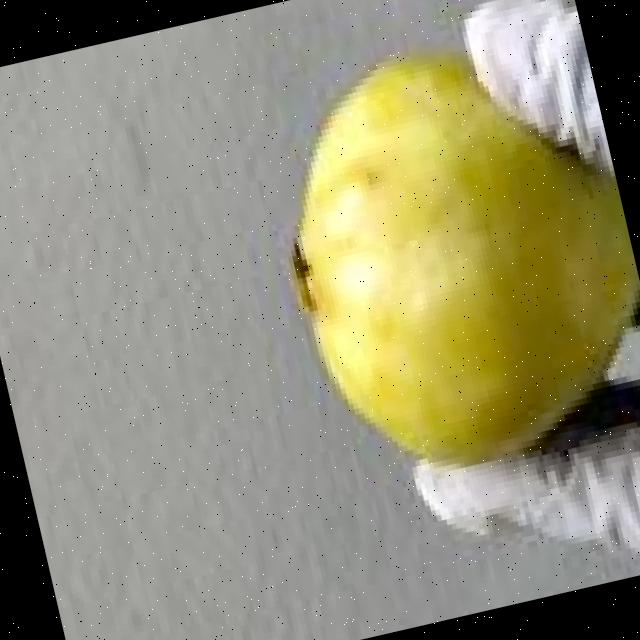Good_Guava 5-7 days: (290, 47, 640, 459)
